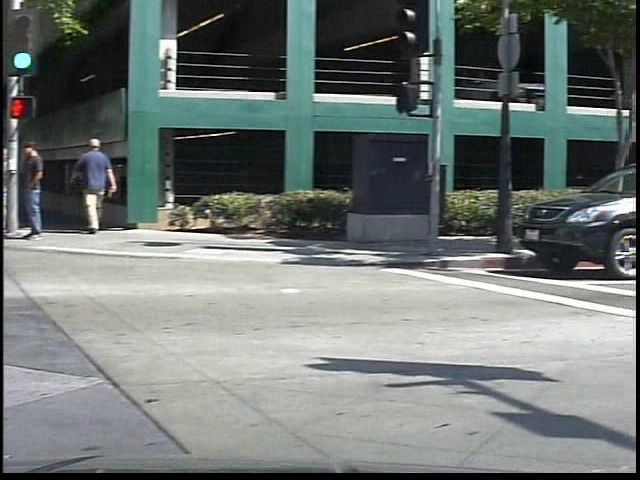person: (79, 135, 133, 237), (27, 132, 63, 245), (14, 142, 38, 233)
